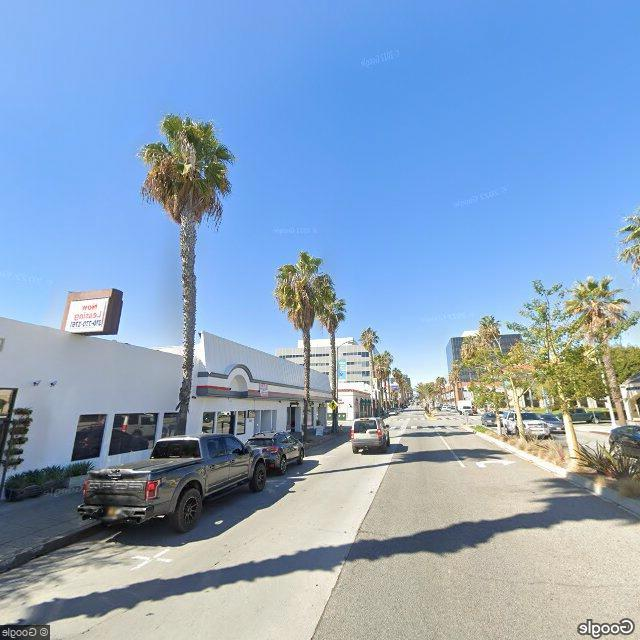crack: (356, 525, 639, 592)
